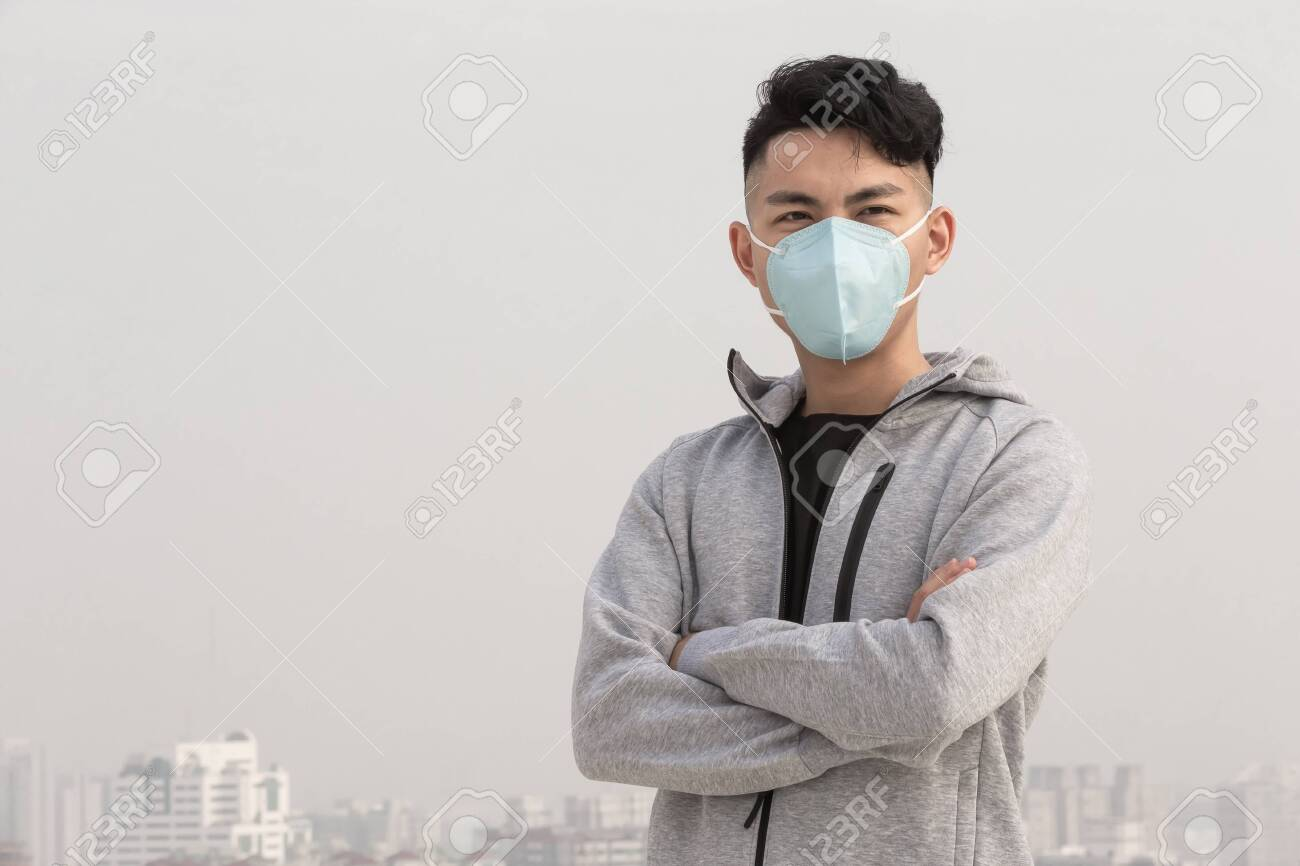n95: (749, 217, 922, 367)
